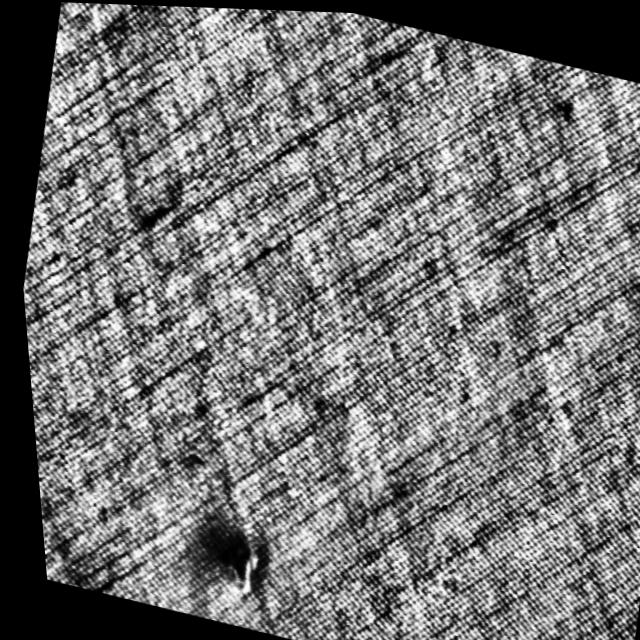Stitch: (195, 527, 258, 596)
